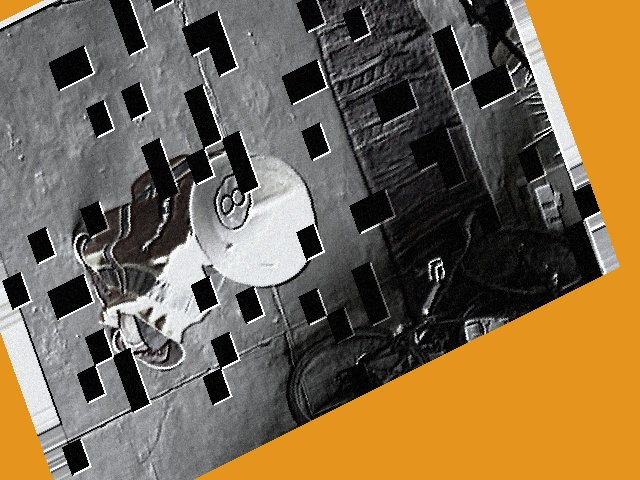eight: (206, 167, 261, 235)
